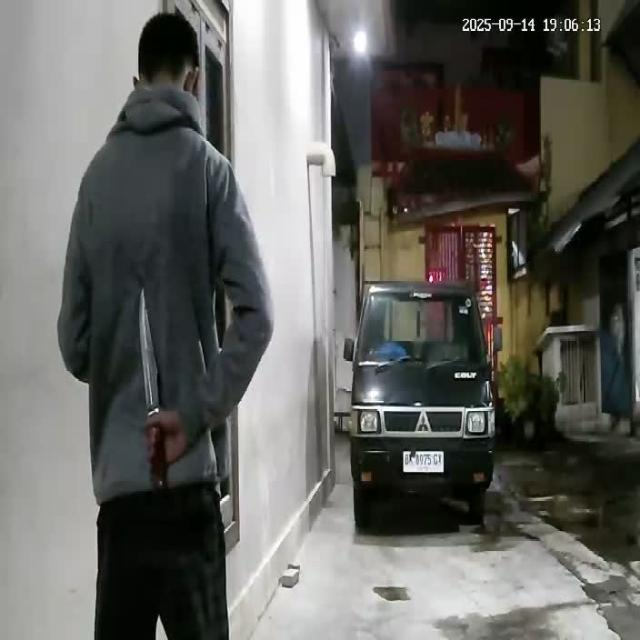senjata_tajam: (136, 287, 162, 415)
